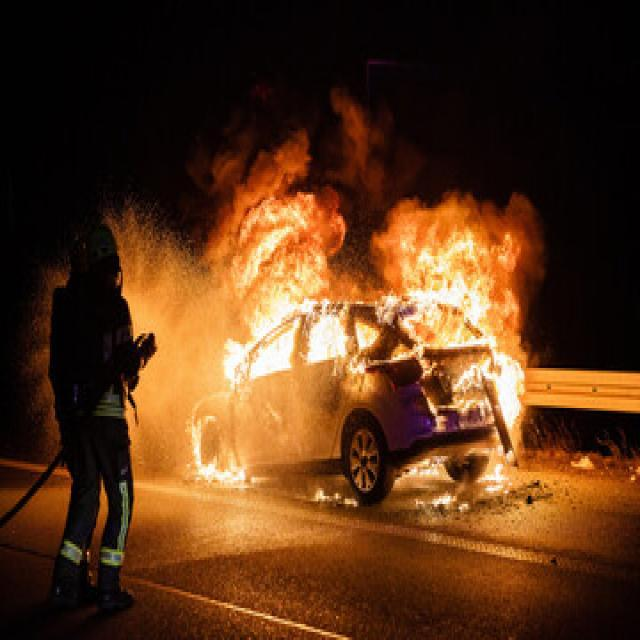Fire: (327, 324, 458, 446), (257, 239, 299, 288)
Smoke: (222, 82, 414, 178), (412, 204, 532, 246)
